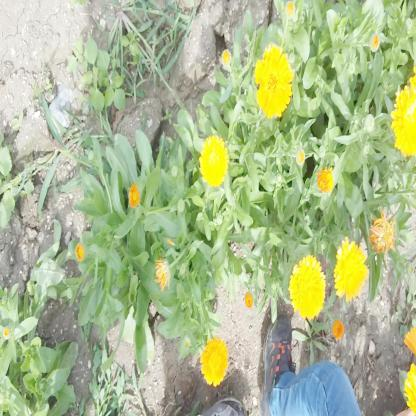marigold: (257, 47, 294, 119), (291, 257, 325, 320), (337, 240, 366, 302), (393, 89, 415, 156), (200, 337, 228, 386), (201, 134, 227, 186)
